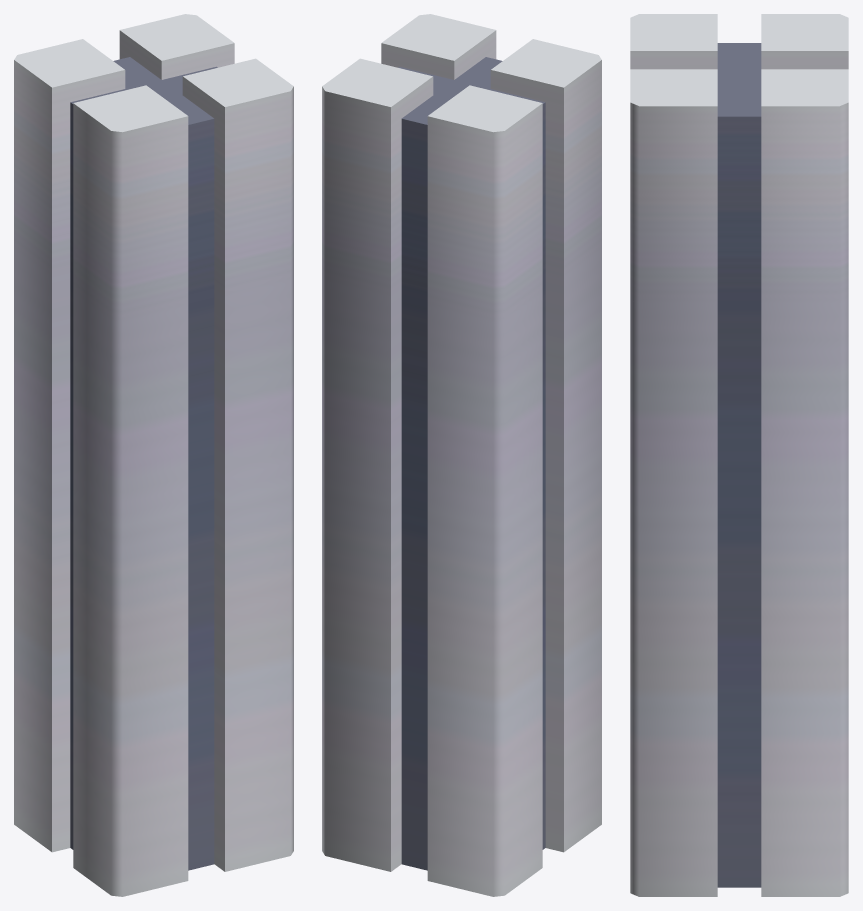
File: low-detail-building-g.glb
3 renders of one model, left to right at view 1: azimuth 30°, elevation 25°; view 2: azimuth 150°, elevation 25°; view 3: azimuth 270°, elevation 25°, orthographic. The views are drawn at different scales.
Visible parts, largest first — view 1: low-detail-building-g; view 2: low-detail-building-g; view 3: low-detail-building-g.
Boxes of the visible parts, x1=… form: low-detail-building-g: x1=14, y1=14, x2=293, y2=896; low-detail-building-g: x1=322, y1=14, x2=601, y2=896; low-detail-building-g: x1=630, y1=14, x2=848, y2=896.
Bounding box in the file's own units: 0.5 × 2 × 0.5.
1 material, 1 textured.
